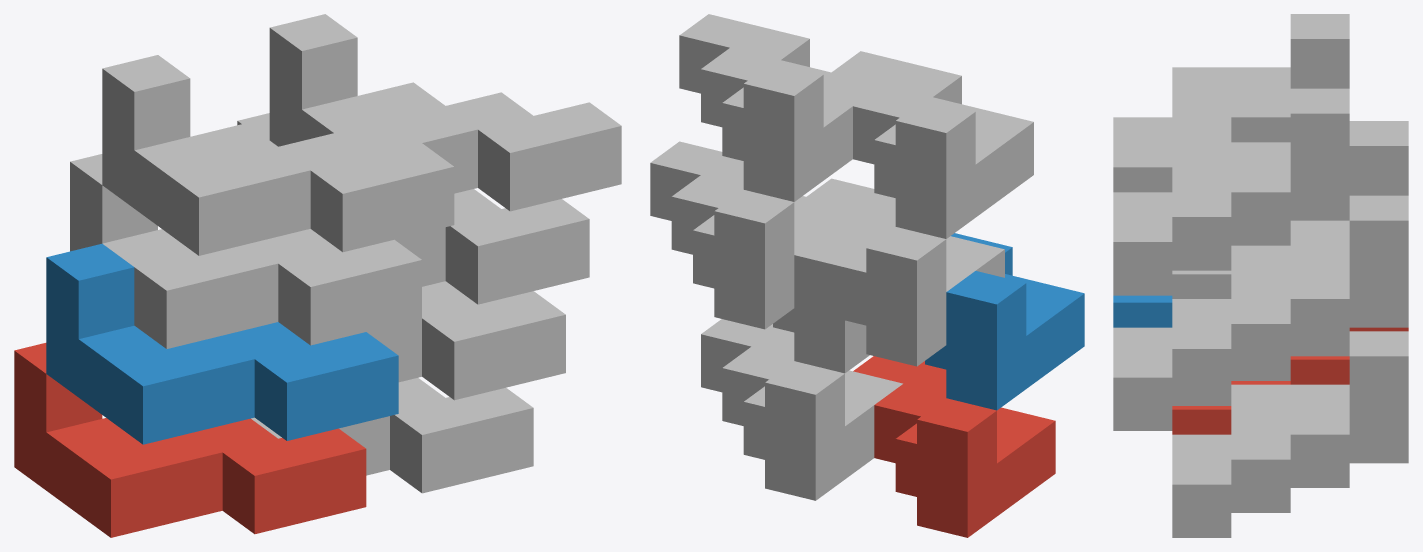
Rendered from tiling.obj.
3 views of the same model, side by side, from view 1: azimuth 30°, elevation 25°; view 2: azimuth 150°, elevation 25°; view 3: azimuth 270°, elevation 25° (orthographic). The views are drawn at different scales.
Visible parts, largest first — view 1: copy_1_domain_4, copy_1_domain_2, copy_1_domain_1, copy_1_domain_8, copy_1_domain_3, copy_1_domain_6, copy_1_domain_7, copy_1_domain_5; view 2: copy_1_domain_8, copy_1_domain_4, copy_1_domain_1, copy_1_domain_5, copy_1_domain_7, copy_1_domain_3, copy_1_domain_2, copy_1_domain_6; view 3: copy_1_domain_5, copy_1_domain_8, copy_1_domain_7, copy_1_domain_4, copy_1_domain_6, copy_1_domain_3, copy_1_domain_1, copy_1_domain_2.
Boxes of the visible parts, x1,y1,x2,y2 form: copy_1_domain_4: [102, 55, 454, 255]; copy_1_domain_2: [46, 243, 398, 444]; copy_1_domain_1: [14, 343, 366, 537]; copy_1_domain_8: [269, 14, 621, 211]; copy_1_domain_3: [70, 154, 421, 348]; copy_1_domain_6: [367, 281, 565, 400]; copy_1_domain_7: [237, 113, 589, 304]; copy_1_domain_5: [251, 378, 533, 493]; copy_1_domain_8: [679, 14, 881, 201]; copy_1_domain_4: [832, 51, 1033, 238]; copy_1_domain_1: [853, 356, 1055, 537]; copy_1_domain_5: [701, 319, 902, 500]; copy_1_domain_7: [650, 141, 852, 329]; copy_1_domain_3: [802, 178, 1004, 366]; copy_1_domain_2: [925, 233, 1084, 410]; copy_1_domain_6: [773, 196, 870, 373]; copy_1_domain_5: [1172, 331, 1408, 537]; copy_1_domain_8: [1113, 88, 1349, 295]; copy_1_domain_7: [1172, 195, 1408, 402]; copy_1_domain_4: [1113, 14, 1349, 192]; copy_1_domain_6: [1113, 224, 1349, 430]; copy_1_domain_3: [1172, 121, 1408, 298]; copy_1_domain_1: [1172, 327, 1408, 434]; copy_1_domain_2: [1113, 295, 1172, 327].
Bounding box in the file's own units: 8 × 7 × 5.
